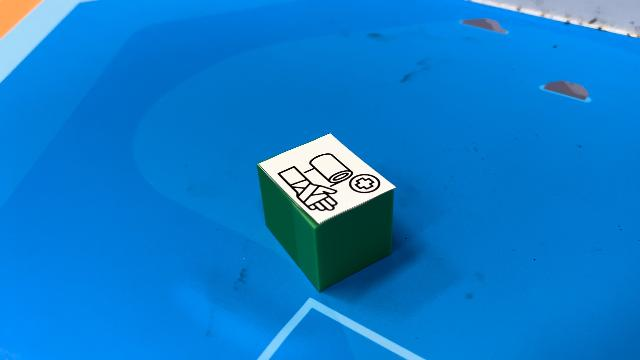bandage: (255, 132, 397, 292)
